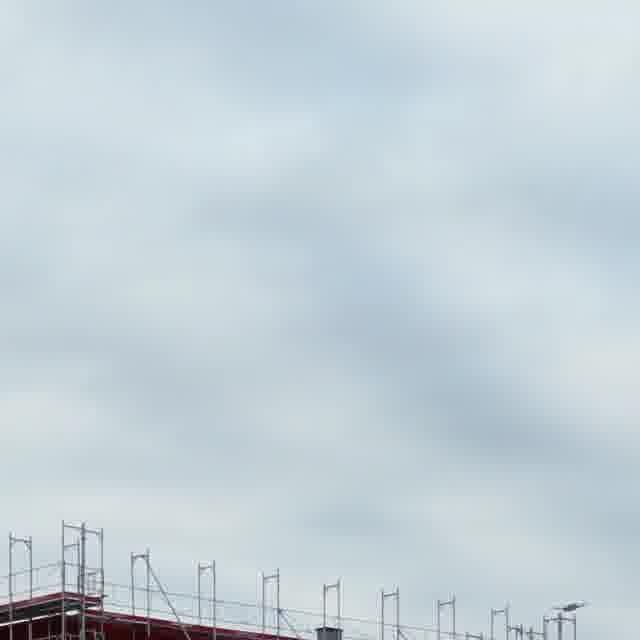Drohne: (554, 600, 587, 612)
